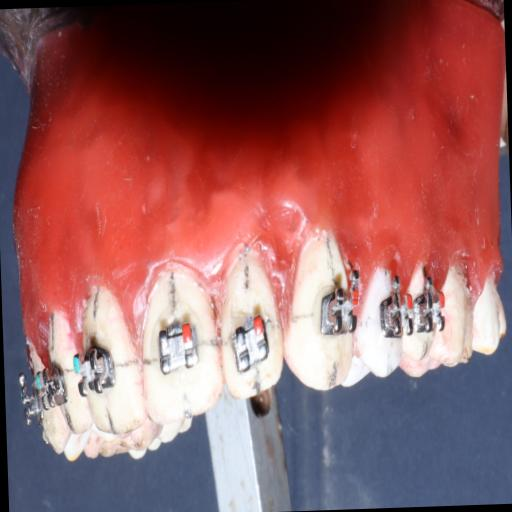incorrect_brace: (219, 246, 284, 404), (154, 310, 202, 381), (228, 308, 272, 376)
